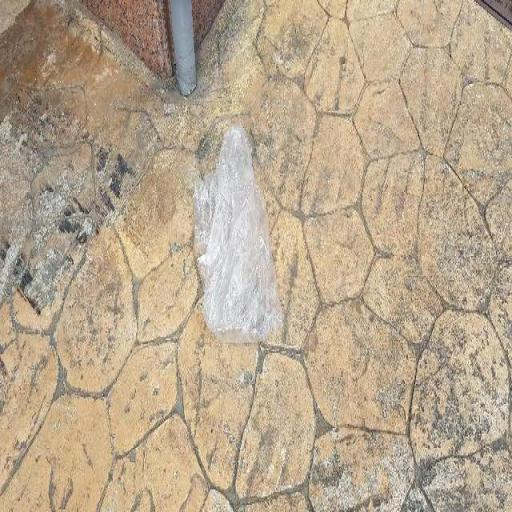plastic-bag: (192, 120, 286, 345)
